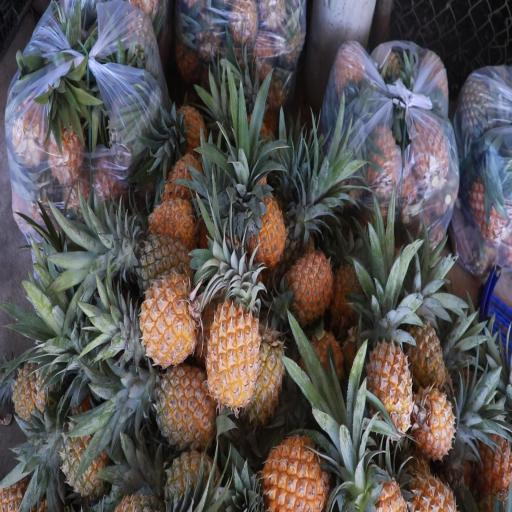------------------------------: (55, 411, 112, 501), (131, 230, 190, 305), (166, 446, 222, 512)
Pineapple - v8 v1: (138, 266, 212, 377), (204, 286, 262, 421), (365, 313, 413, 444), (256, 426, 329, 512), (153, 360, 219, 454), (243, 306, 287, 426), (403, 380, 460, 470), (347, 388, 402, 480), (400, 318, 454, 395), (243, 184, 288, 273), (283, 244, 335, 320), (146, 190, 200, 254), (154, 148, 207, 208)
